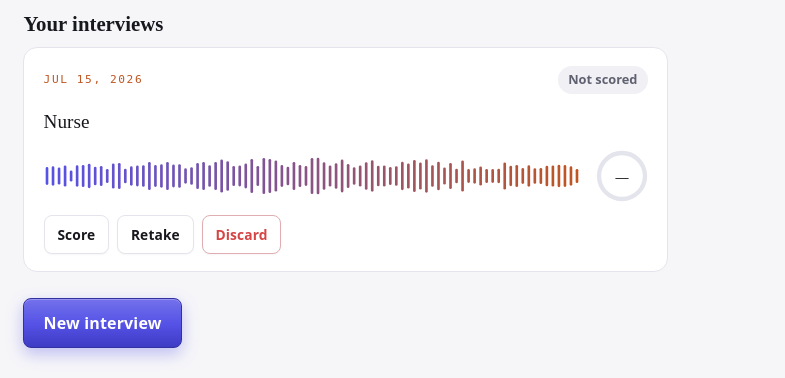
Test: History lets a stuck active interview be discarded
Step 1. Click the button "Discard" → coordinates (242, 234), box [202, 214, 282, 254]
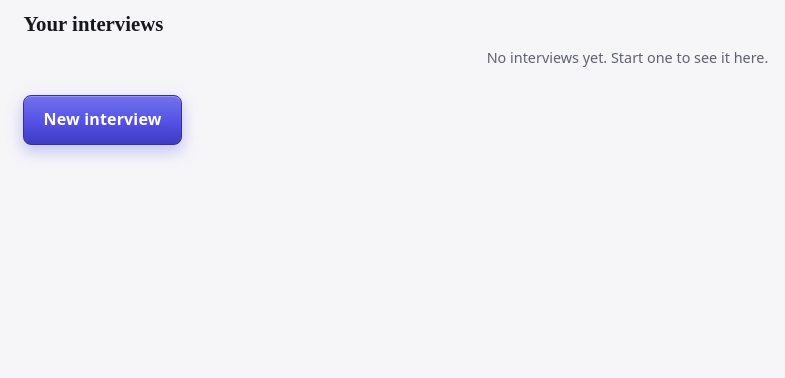
Expected: the text "Nurse" is gone
